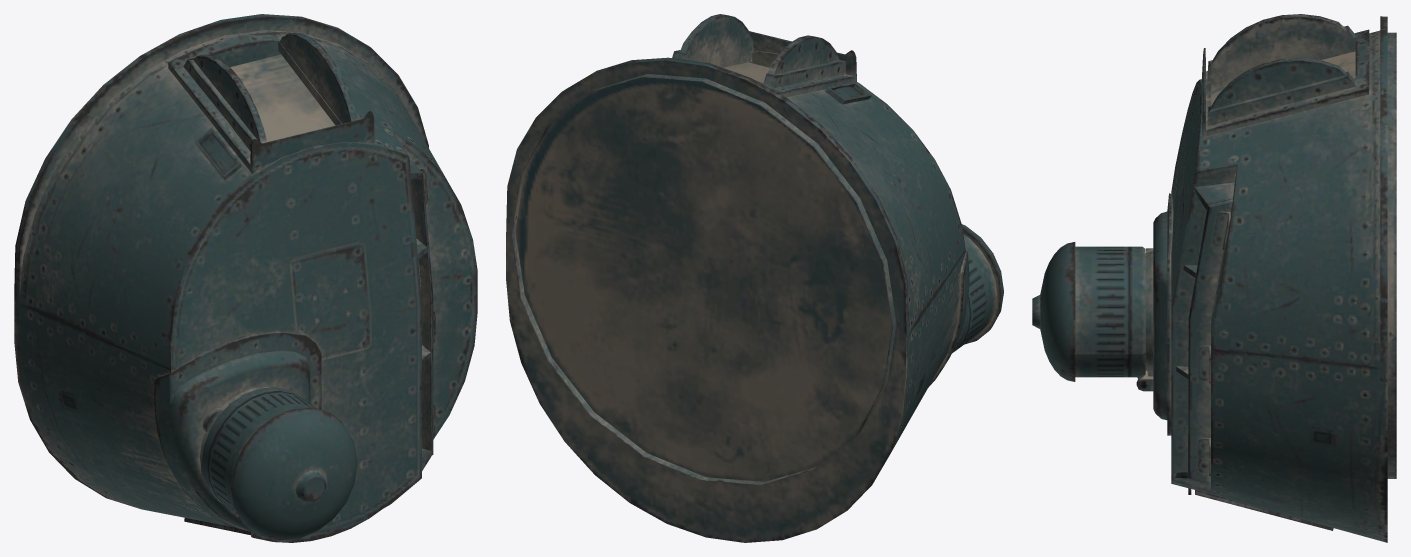
File: Turret_01.glb
The picture shows the model from 3 angles, left to right: view 1: azimuth 30°, elevation 25°; view 2: azimuth 150°, elevation 25°; view 3: azimuth 270°, elevation 25°; orthographic projection. The views are drawn at different scales.
Parts seen in each view (by area): view 1: set_0_group_0; view 2: set_0_group_0; view 3: set_0_group_0.
Part boxes in pixels (x1,y1,x2,y2): set_0_group_0: (14, 14, 477, 542); set_0_group_0: (506, 14, 1003, 542); set_0_group_0: (1032, 14, 1396, 542).
Size of the model in its own units: 1.96 by 2.22 by 1.52.
Materials: 1 (1 with a texture image).
